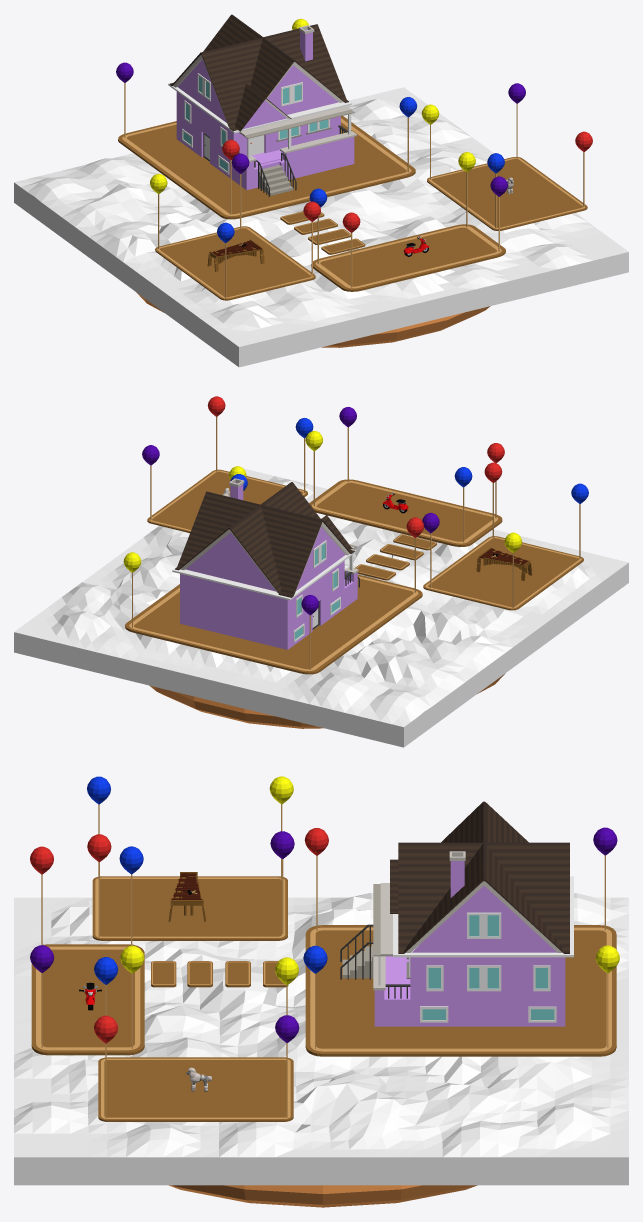
3 renders of one model, top to bottom at view 1: azimuth 30°, elevation 25°; view 2: azimuth 150°, elevation 25°; view 3: azimuth 270°, elevation 25°, orthographic. The views are drawn at different scales.
Visible parts, largest first — view 1: Cube.013, Cube.391, UNDERGROUND_PIZZA, OBJRANDOM_MARIMBA; view 2: Cube.013, Cube.391, UNDERGROUND_PIZZA, OBJRANDOM_MARIMBA; view 3: Cube.013, Cube.391, UNDERGROUND_PIZZA, OBJRANDOM_MARIMBA.
Boxes of the visible parts, x1=… form: Cube.013: x1=14, y1=18, x2=628, y2=367; Cube.391: x1=168, y1=14, x2=356, y2=196; UNDERGROUND_PIZZA: x1=136, y1=292, x2=490, y2=347; OBJRANDOM_MARIMBA: x1=207, y1=239, x2=264, y2=271; Cube.013: x1=14, y1=396, x2=628, y2=747; Cube.391: x1=172, y1=478, x2=359, y2=649; UNDERGROUND_PIZZA: x1=149, y1=673, x2=505, y2=728; OBJRANDOM_MARIMBA: x1=476, y1=547, x2=532, y2=580; Cube.013: x1=14, y1=776, x2=628, y2=1185; Cube.391: x1=340, y1=801, x2=573, y2=1026; UNDERGROUND_PIZZA: x1=169, y1=1185, x2=477, y2=1207; OBJRANDOM_MARIMBA: x1=168, y1=872, x2=205, y2=921.
Bounding box in the file's own units: 4000 × 1899 × 4000.
Materials: 39 (1 with a texture image).
